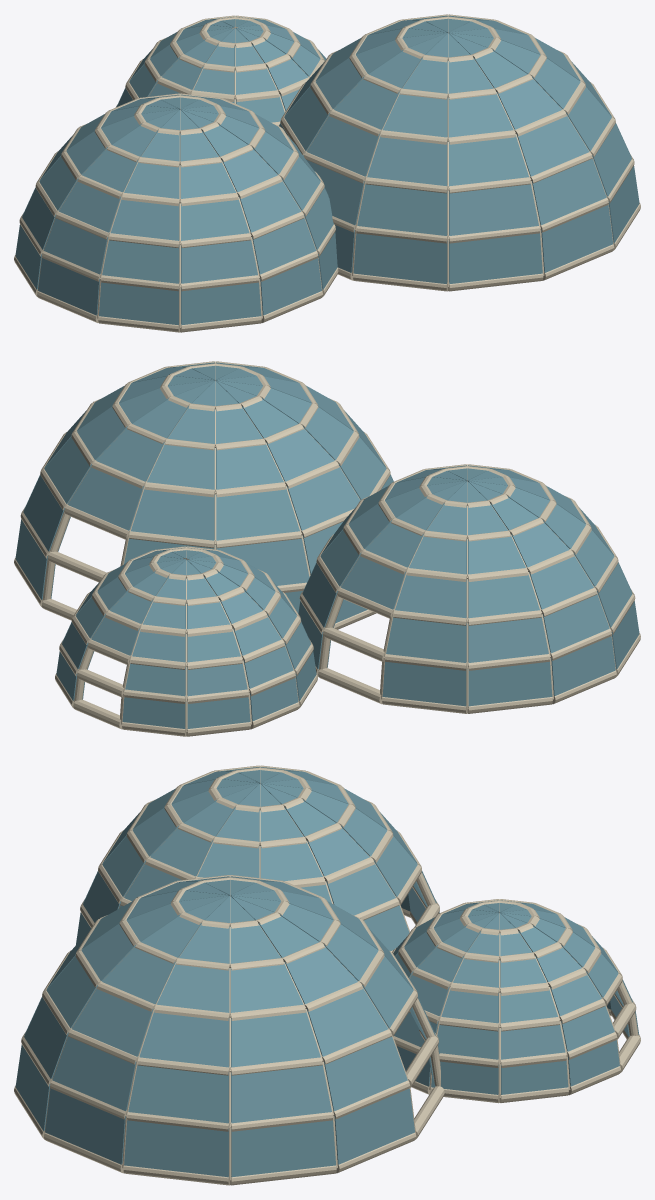
File: rainforest-bubbles.glb
3 views of the same model, one above another, from view 1: azimuth 30°, elevation 25°; view 2: azimuth 150°, elevation 25°; view 3: azimuth 270°, elevation 25° (orthographic). The views are drawn at different scales.
Visible parts, largest first — view 1: rainforest-bubbles; view 2: rainforest-bubbles; view 3: rainforest-bubbles.
Boxes of the visible parts, box(x1,y1,x2,y2) form: rainforest-bubbles: box(14, 14, 640, 332); rainforest-bubbles: box(14, 361, 640, 736); rainforest-bubbles: box(14, 765, 640, 1185).
Size of the model in its own units: 24.43 by 7.4 by 20.93.
